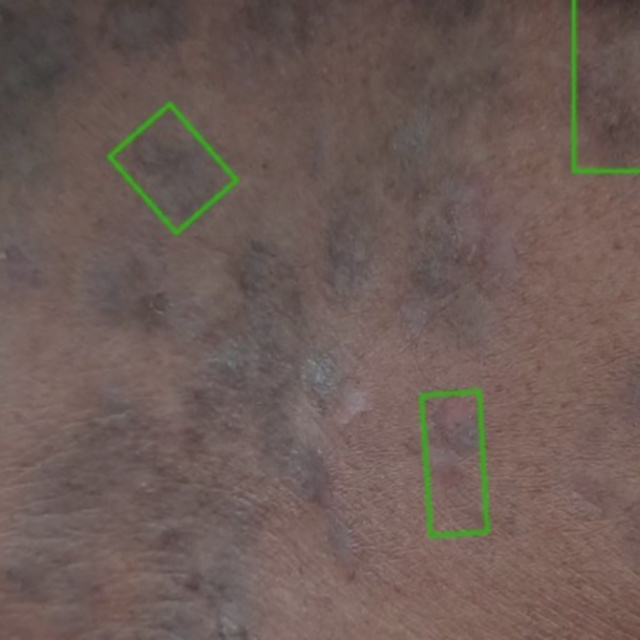Contact Dermatitis: (109, 104, 236, 233), (574, 0, 639, 170), (421, 392, 487, 535)
